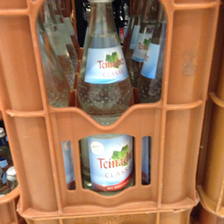water: (72, 1, 136, 196)
